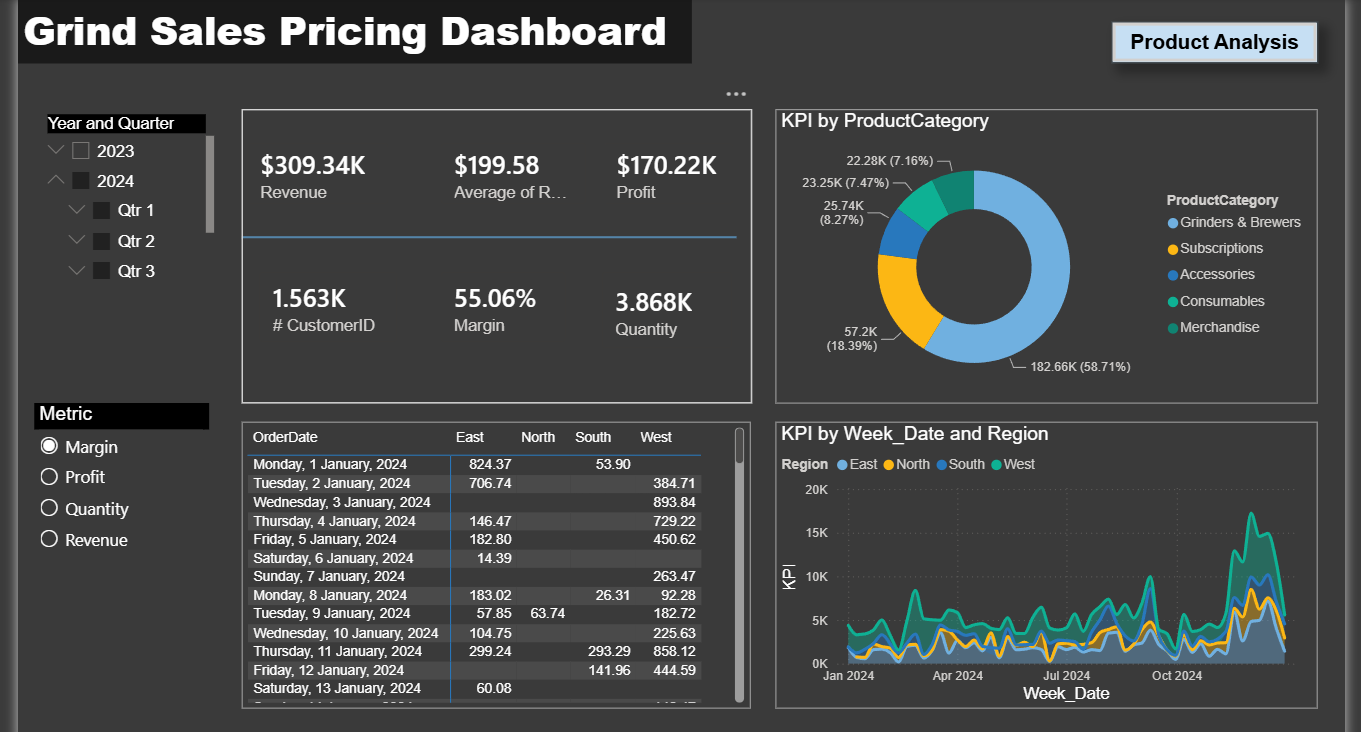

What the dashboard file says about the page in this screenshot:
{"tool":"powerbi","page":{"name":"Main Page","canvas":[1280,720],"ordinal":0},"visuals":[{"type":"donutChart","fields":{"Category":["Query.ProductCategory"],"Y":["Query.KPI"]},"box":[731.4,107,522.8,284],"z":0},{"type":"stackedAreaChart","fields":{"Series":["Query.Region"],"Category":["Query.Week_Date"],"Y":["Query.KPI"]},"box":[731.4,408.9,522.8,277.2],"z":1000},{"type":"cardVisual","fields":{"Data":["Sum(Query.Revenue)"]},"box":[204.5,123.5,171.5,93.3],"z":2000},{"type":"cardVisual","fields":{"Data":["Sum(Query.Quantity)"]},"box":[546.1,247,160.5,108.4],"z":3000},{"type":"cardVisual","fields":{"Data":["Query.Margin"]},"box":[391.1,247,155.1,102.9],"z":4000},{"type":"cardVisual","fields":{"Data":["CountNonNull(Query.CustomerID)"]},"box":[215.4,247,167.4,102.9],"z":5000},{"type":"cardVisual","fields":{"Data":["Sum(Query.Profit)"]},"box":[547.5,123.5,160.5,93.3],"z":6000},{"type":"cardVisual","fields":{"Data":["Avg(Query.Revenue)"]},"box":[391.1,123.5,175.6,93.3],"z":7000},{"type":"shape","box":[215.4,216.8,477.5,27.4],"z":8000},{"type":"slicer","title":"Year and Quater","fields":{"Values":["Query.OrderDate.Variation.Date Hierarchy.Year","Query.OrderDate.Variation.Date Hierarchy.Quarter","Query.OrderDate.Variation.Date Hierarchy.Month","Query.OrderDate.Variation.Date Hierarchy.Day"]},"box":[15.1,107,178.4,168.8],"z":9000},{"type":"pivotTable","fields":{"Columns":["Query.Region"],"Rows":["Query.OrderDate"],"Values":["Query.KPI"]},"box":[215.4,408.9,491.3,277.2],"z":10000},{"type":"listSlicer","fields":{"Values":["Metric Selection.Metric Selector"]},"box":[15.1,391.1,168.8,164.7],"z":11000},{"type":"textbox","box":[0,0,650.4,63.1],"z":12000},{"type":"textbox","box":[215.4,107,492.6,284],"z":13000},{"type":"actionButton","box":[1055.2,23.3,199,39.8],"z":14000}]}

Visuals, with their boxes on the page's 1280x720 design canvas (x1, y1, x2, y2). These are canvas units, not pixel positions in the 1361x732 screenshot, which may show the page scaled, cropped or inside an application window:
donutChart - Query.ProductCategory x Query.KPI: x1=731, y1=107, x2=1254, y2=391
stackedAreaChart - Query.Region x Query.Week_Date: x1=731, y1=409, x2=1254, y2=686
cardVisual - Sum(Query.Revenue): x1=204, y1=124, x2=376, y2=217
cardVisual - Sum(Query.Quantity): x1=546, y1=247, x2=707, y2=355
cardVisual - Query.Margin: x1=391, y1=247, x2=546, y2=350
cardVisual - CountNonNull(Query.CustomerID): x1=215, y1=247, x2=383, y2=350
cardVisual - Sum(Query.Profit): x1=548, y1=124, x2=708, y2=217
cardVisual - Avg(Query.Revenue): x1=391, y1=124, x2=567, y2=217
shape: x1=215, y1=217, x2=693, y2=244
"Year and Quater" slicer: x1=15, y1=107, x2=194, y2=276
pivotTable - Query.Region x Query.OrderDate: x1=215, y1=409, x2=707, y2=686
listSlicer - Metric Selection.Metric Selector: x1=15, y1=391, x2=184, y2=556
textbox: x1=0, y1=0, x2=650, y2=63
textbox: x1=215, y1=107, x2=708, y2=391
actionButton: x1=1055, y1=23, x2=1254, y2=63
